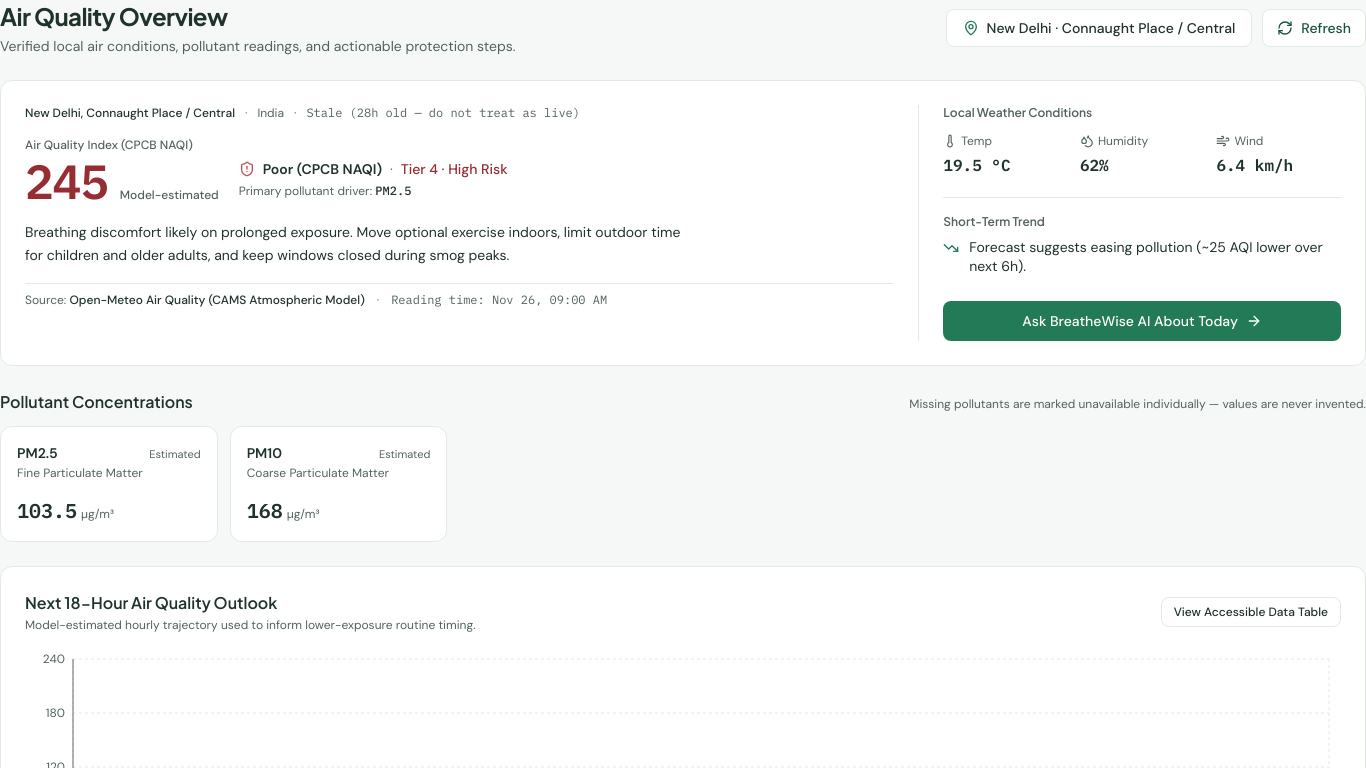
Scenario: React UI component, keyboard, focus, and accessibility behaviors › OverviewPage renders loading, error, unavailable states, refresh trigger, and accessible forecast table
The width and height of the screenshot is (1366, 768).
Later steps or results of the test are not shown.
Click the button with aria-label "refresh air quality readings".
click(1314, 28)  # box top-left (1262, 9), bottom-right (1365, 47)
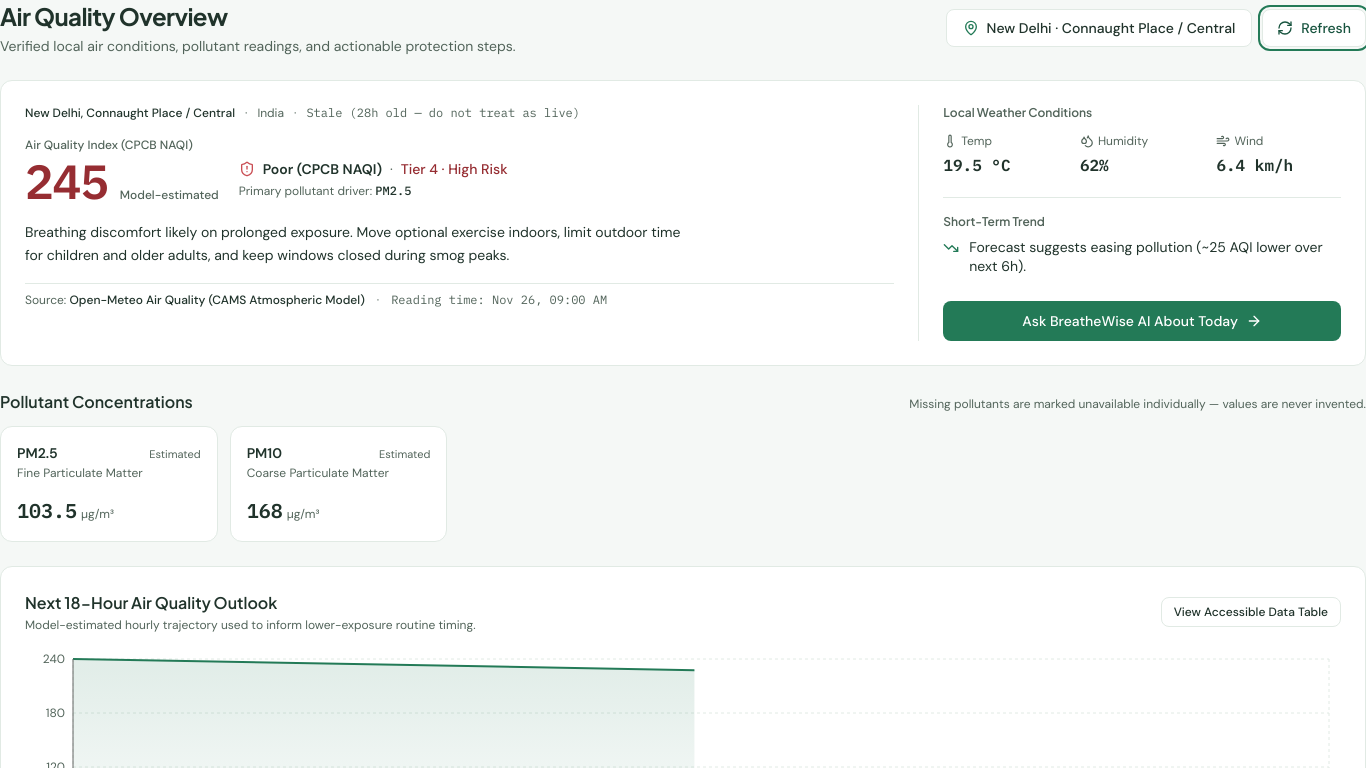
Click the button "View Accessible Data Table".
click(1251, 612)  # box top-left (1161, 596), bottom-right (1341, 626)
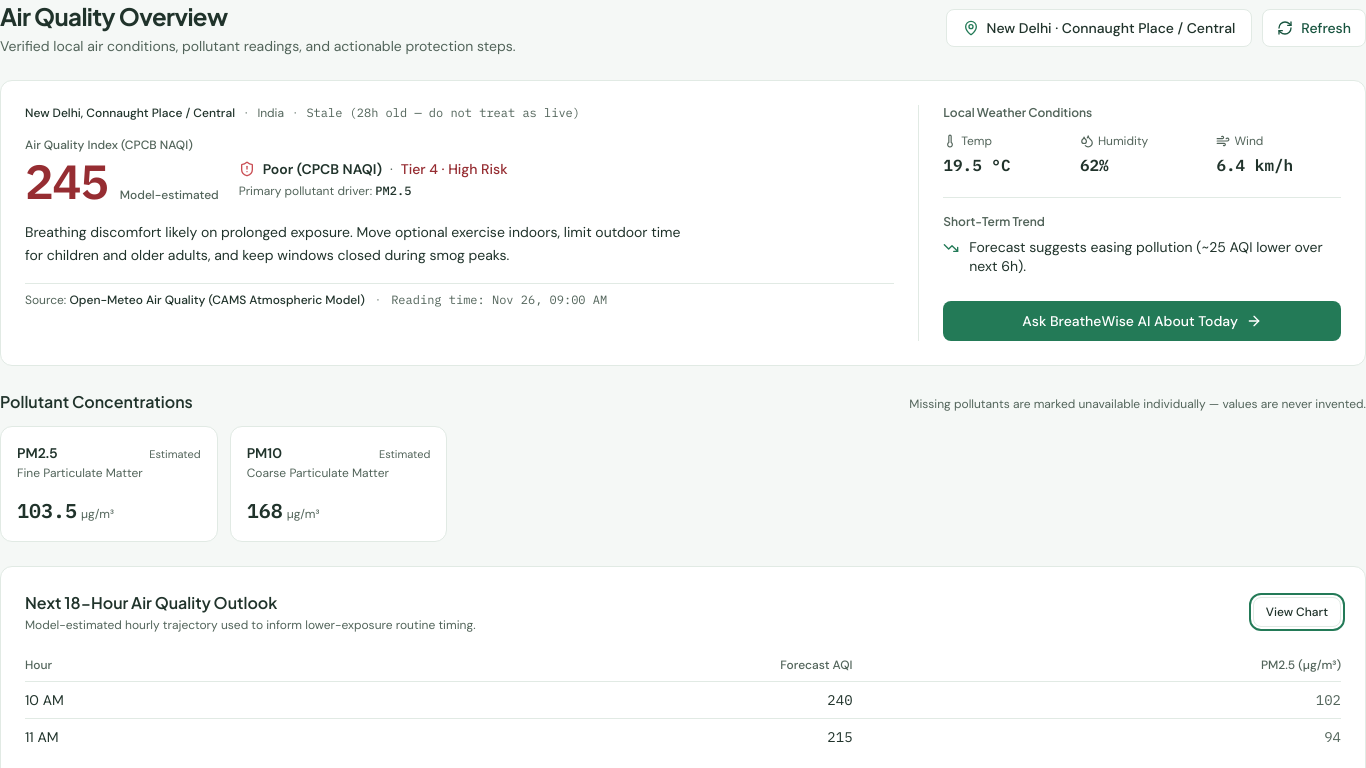
Expected: the text "240" is shown, top-left (348, 682), bottom-right (869, 718)
Expected: the table named "next 18-hour air quality forecast" is shown, top-left (25, 648), bottom-right (1341, 754)
